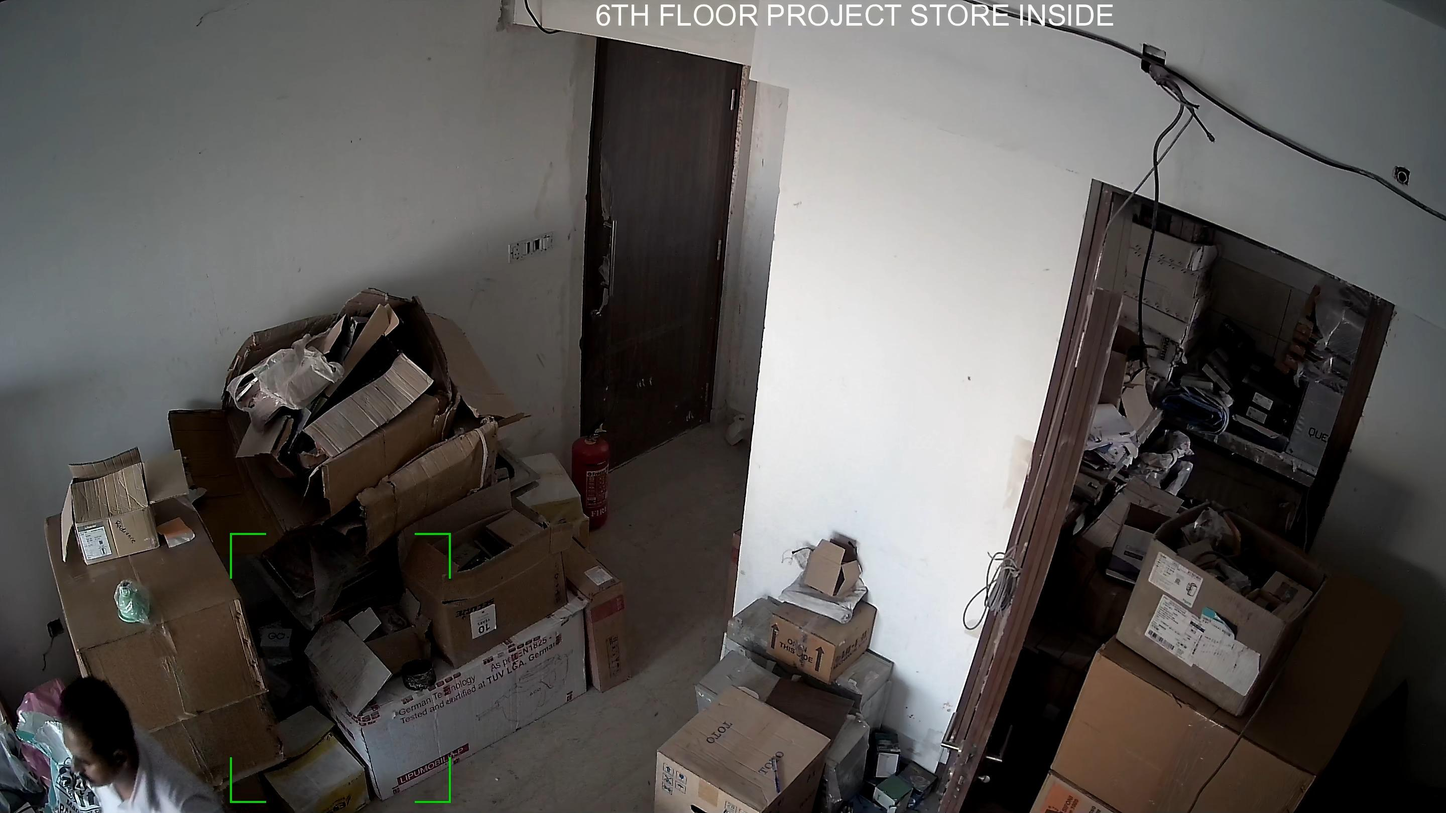Door-Close: (570, 35, 745, 527)
